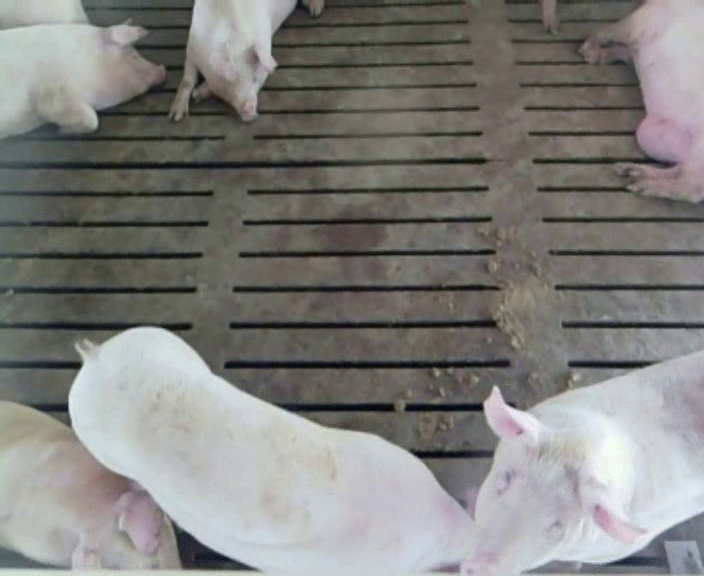pig: (69, 328, 471, 573), (462, 351, 703, 573), (579, 2, 703, 201), (0, 24, 165, 138)
